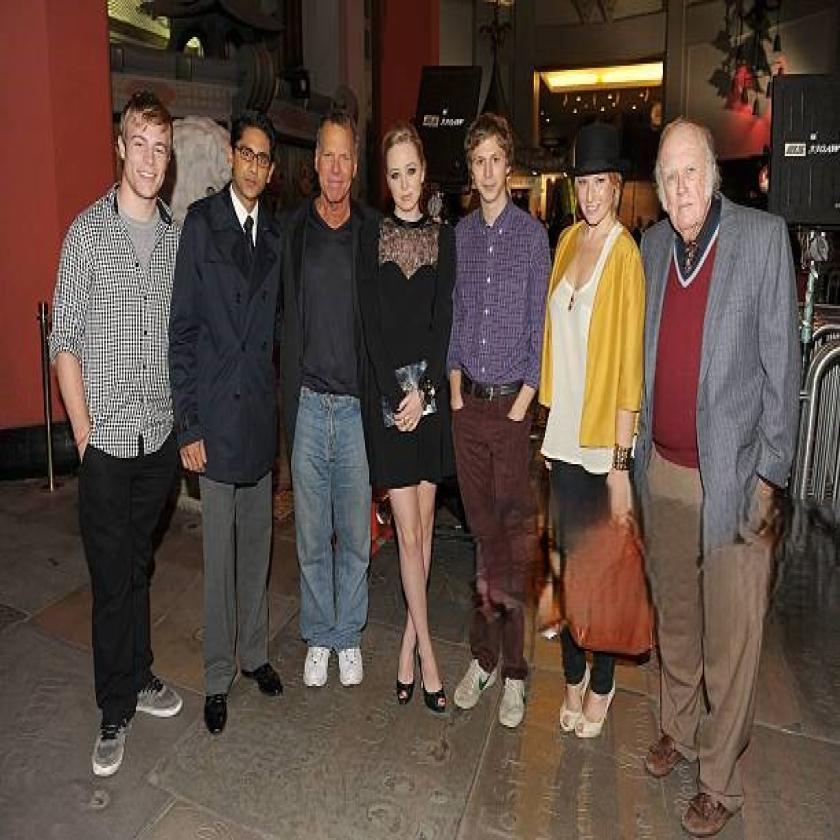Sin_casco: (648, 104, 730, 246), (452, 100, 531, 228), (112, 76, 174, 229), (312, 91, 376, 224), (222, 95, 283, 214), (384, 112, 433, 217)
